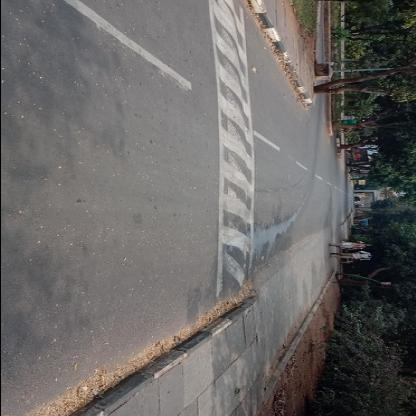speed-bumps: (197, 0, 263, 310)
